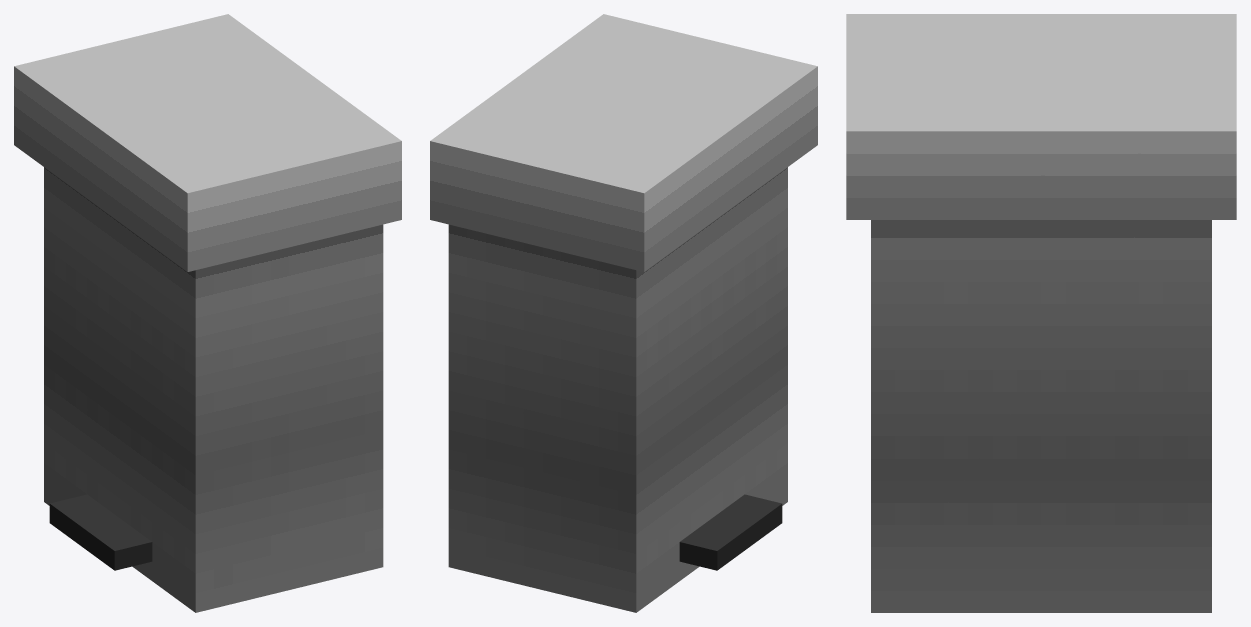
File: Trash Can.gltf
3 views of the same model, side by side, from view 1: azimuth 30°, elevation 25°; view 2: azimuth 150°, elevation 25°; view 3: azimuth 270°, elevation 25° (orthographic). The views are drawn at different scales.
Visible parts, largest first — view 1: cube (×3); view 2: cube (×3); view 3: cube (×2).
Boxes of the visible parts, bbox=[...] form: cube (×3): bbox=[14, 14, 401, 612]; cube (×3): bbox=[430, 14, 817, 612]; cube (×2): bbox=[846, 14, 1236, 612].
Size of the model in its own units: 0.1939 by 0.3439 by 0.2503.
1 material, 1 textured.
